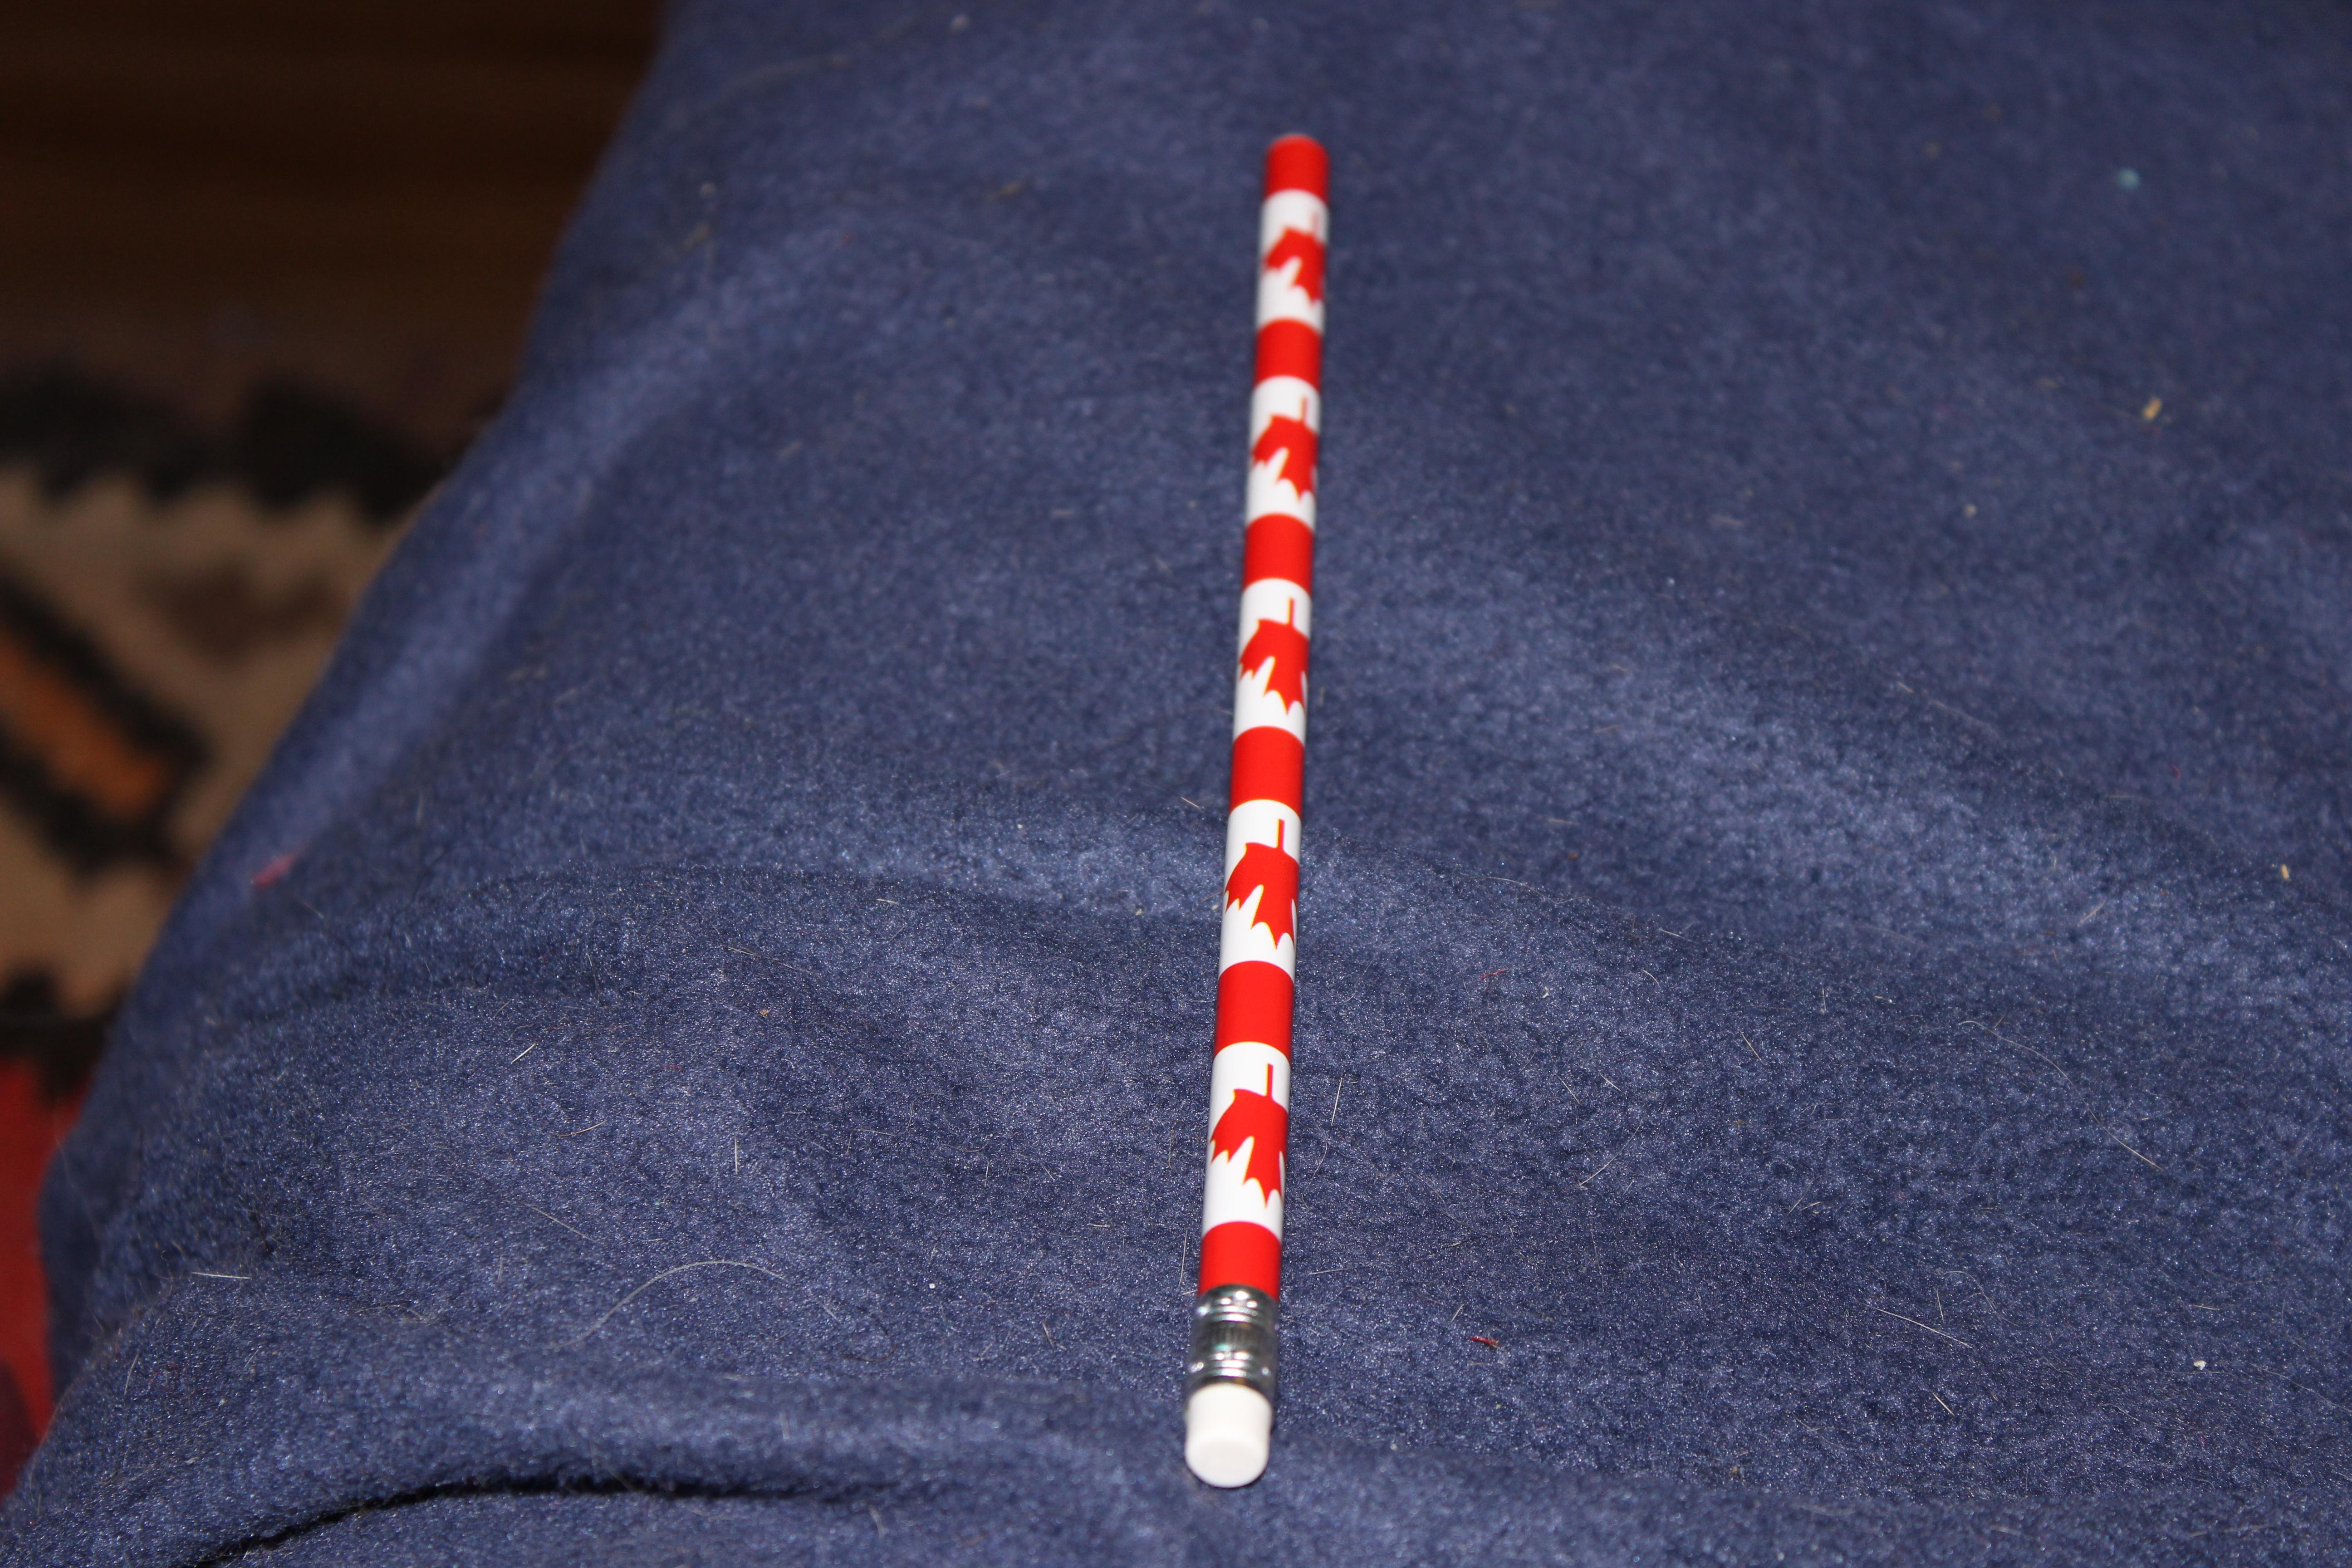canadaPencil: (1151, 107, 1411, 1517)
